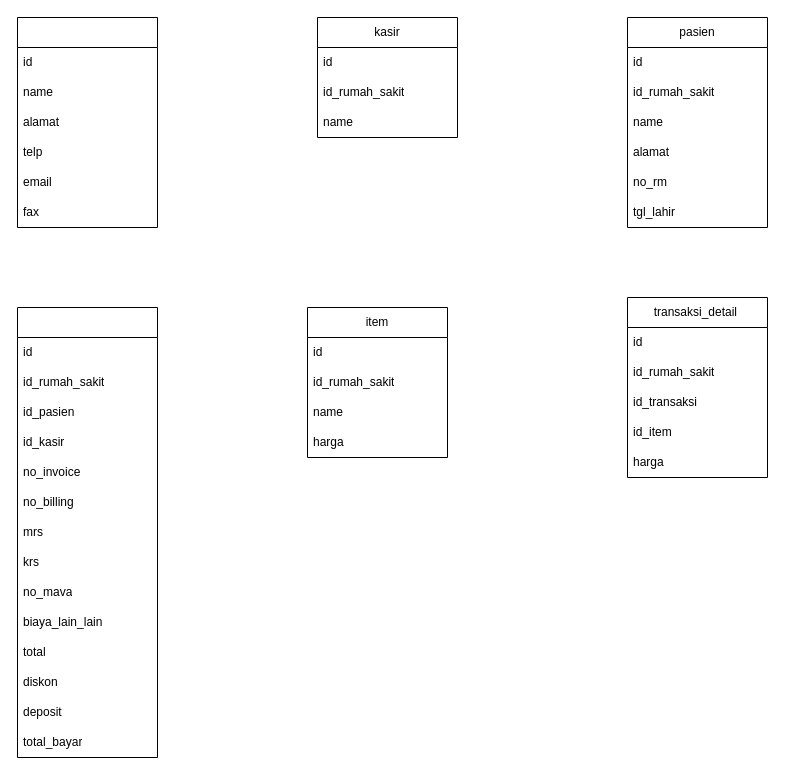
The diagram is 785 pixels wide and 775 high, and some of its shapes have lost their labels. Here are the shapes that lost their labels. From the top down, the box of each, then its label:
(16, 16, 158, 228): rumah_sakit
(16, 306, 158, 758): transaksi
